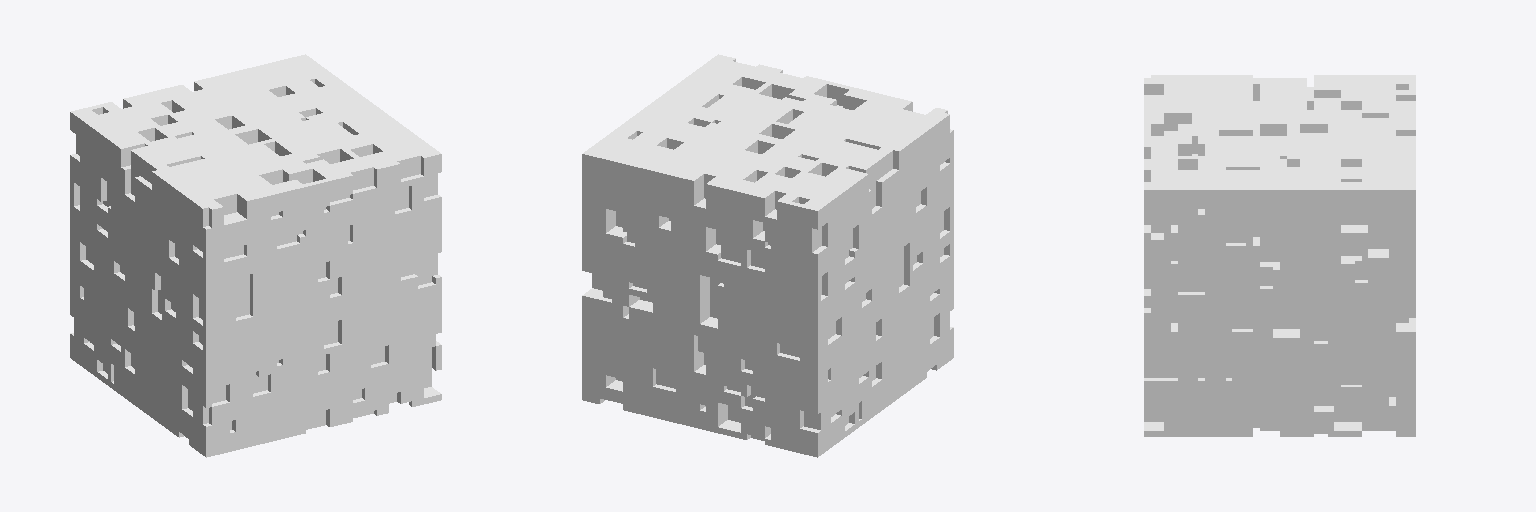
Rendered from LargeRocks-7-Rock1_1.obj.
3 views of the same model, side by side, from view 1: azimuth 30°, elevation 25°; view 2: azimuth 150°, elevation 25°; view 3: azimuth 270°, elevation 25° (orthographic).
Visible parts, largest first — view 1: Rock1_1; view 2: Rock1_1; view 3: Rock1_1.
Part boxes in pixels (left/top/right/bottom): Rock1_1: left=70, top=54, right=441, bottom=457; Rock1_1: left=582, top=54, right=953, bottom=457; Rock1_1: left=1144, top=75, right=1415, bottom=436.
Bounding box in the file's own units: 4 × 4 × 4.